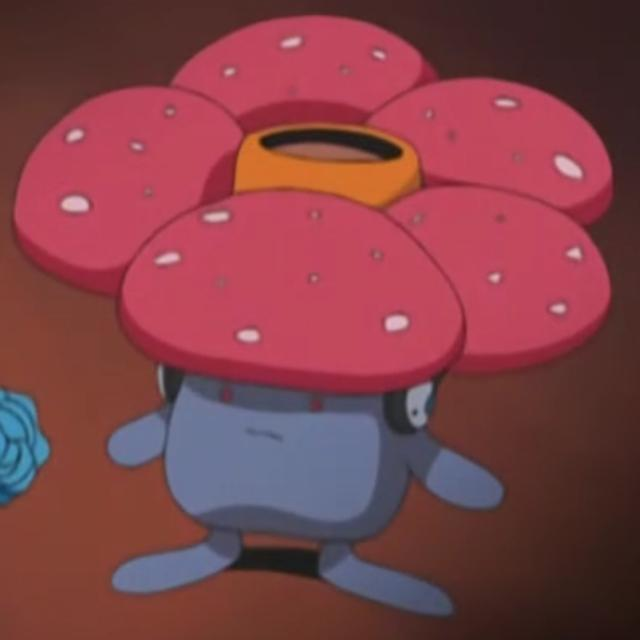Vileplume: (92, 19, 515, 608)
